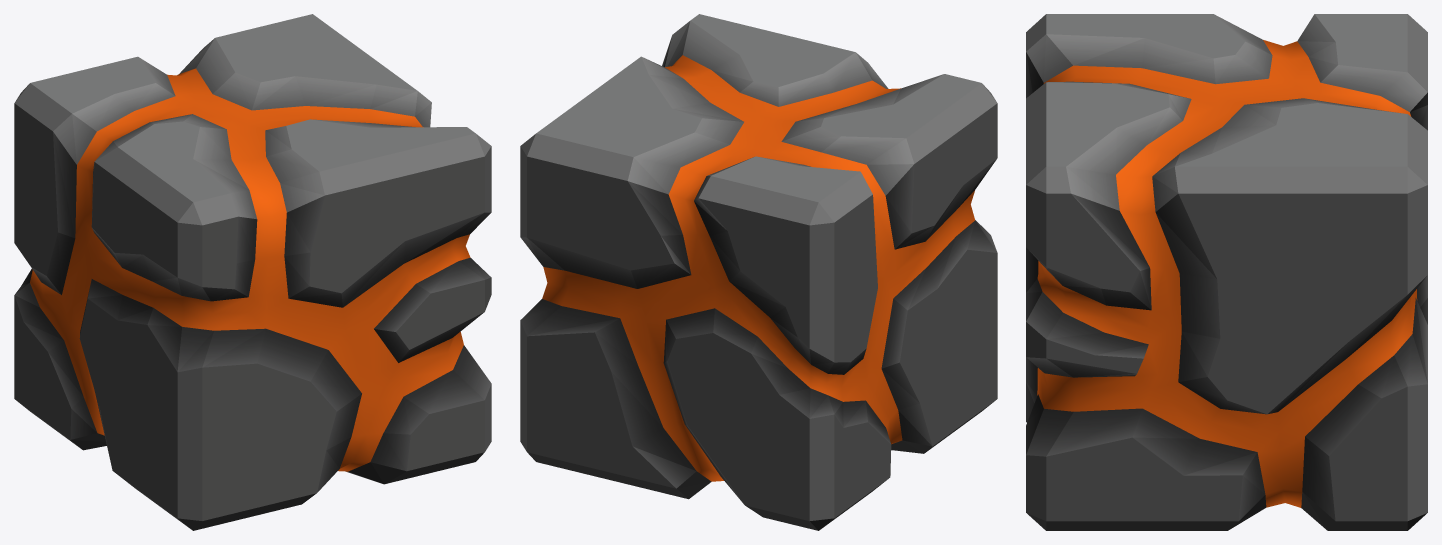
The model's file is m_kub_lava_crackBig.FBX.
3 renders of one model, left to right at view 1: azimuth 30°, elevation 25°; view 2: azimuth 150°, elevation 25°; view 3: azimuth 270°, elevation 25°, orthographic. The views are drawn at different scales.
Visible parts, largest first — view 1: m_kub_lava_crackBig; view 2: m_kub_lava_crackBig; view 3: m_kub_lava_crackBig.
Part boxes in pixels (box(x1,y1,x2,y2)): m_kub_lava_crackBig: box(14, 14, 491, 530); m_kub_lava_crackBig: box(520, 14, 997, 530); m_kub_lava_crackBig: box(1026, 14, 1427, 530).
Size of the model in its own units: 2 by 2 by 2.
